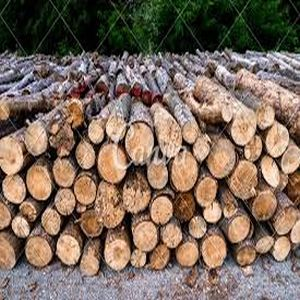log: (225, 161, 260, 198), (97, 144, 129, 184), (208, 138, 237, 180), (125, 122, 155, 162), (25, 234, 54, 273), (26, 164, 55, 201), (229, 111, 258, 148), (123, 178, 151, 216), (200, 234, 230, 267), (264, 123, 290, 160), (173, 155, 199, 192), (158, 118, 182, 156), (253, 187, 279, 222), (24, 122, 49, 158), (262, 124, 289, 157), (227, 214, 255, 245), (103, 239, 131, 270), (55, 234, 82, 266), (73, 174, 98, 208), (1, 138, 25, 173), (132, 220, 159, 251), (147, 193, 173, 225), (259, 153, 282, 189), (3, 172, 27, 205), (52, 158, 78, 188), (145, 159, 171, 188), (273, 202, 296, 234), (78, 210, 105, 237), (194, 177, 219, 206), (75, 140, 97, 172), (51, 189, 76, 215), (175, 242, 200, 268), (173, 193, 196, 220), (149, 243, 171, 271), (271, 234, 291, 264), (79, 251, 102, 277), (162, 223, 184, 249), (255, 102, 276, 129), (106, 114, 125, 143), (41, 208, 62, 234), (1, 237, 17, 271), (201, 202, 224, 225), (11, 216, 32, 241), (181, 119, 199, 147), (192, 136, 211, 161), (282, 147, 300, 173), (19, 199, 40, 221), (237, 244, 256, 268), (188, 216, 207, 239), (87, 121, 104, 144), (130, 249, 148, 270), (257, 234, 275, 255), (220, 106, 233, 123)
